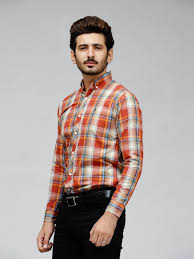F_belt: (56, 184, 134, 211)
